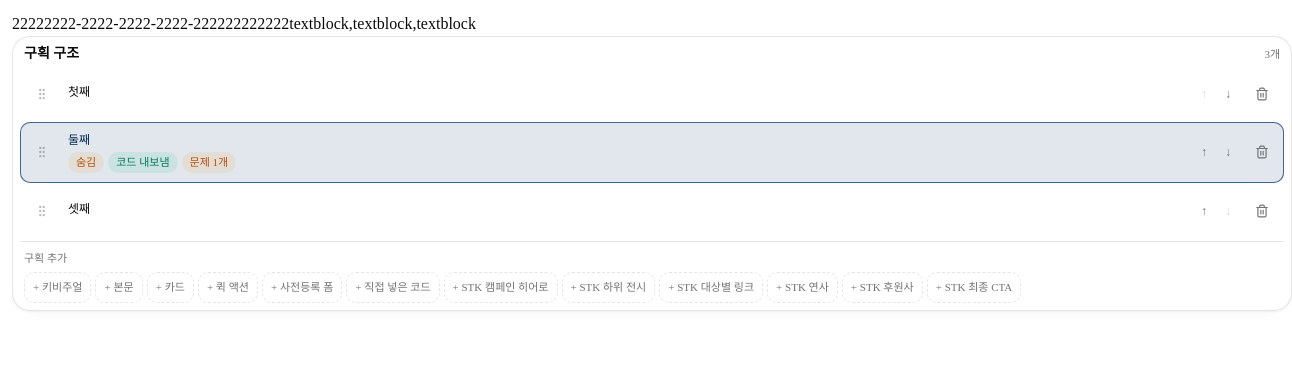
Expo section tree › adds sections through the tree and keeps pinned-first types at the front
This screenshot has width=1292, height=379.
What coordinates should you click on to do the following:
click the button "+ 키비주얼"
I would click on:
 (58, 287)
Its box is [24,272,92,302].
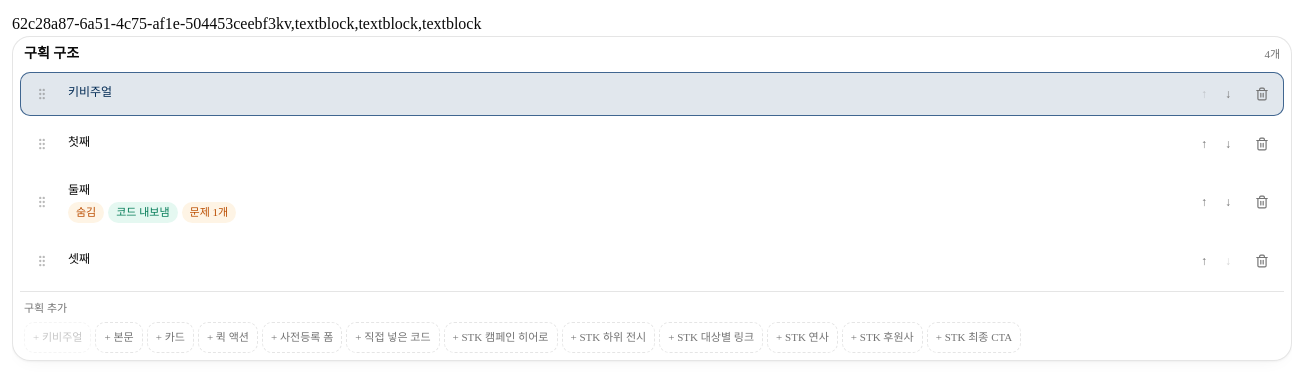
Result: the text with test id "order" shows "kv," at [276,15,482,32]
Result: the button "+ 키비주얼" is disabled at [24,322,92,352]
Result: the text with test id "selection" no longer shows "22222222-2222-2222-2222-222222222222" at [12,15,276,32]
